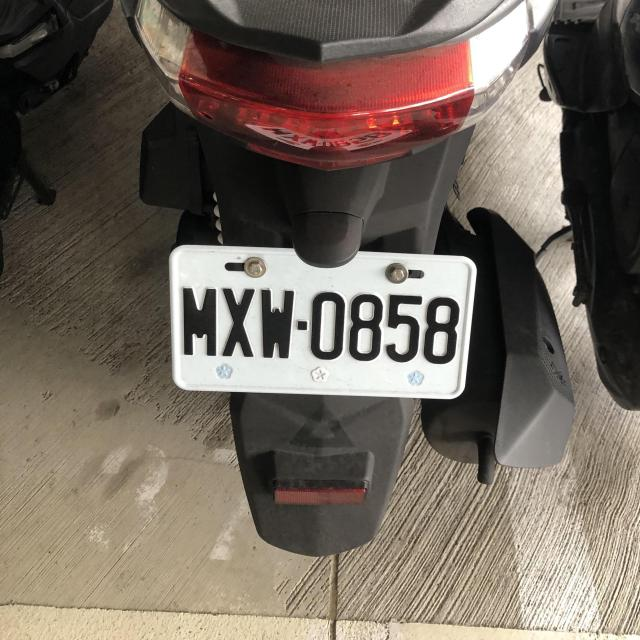W: (166, 243, 475, 400)
